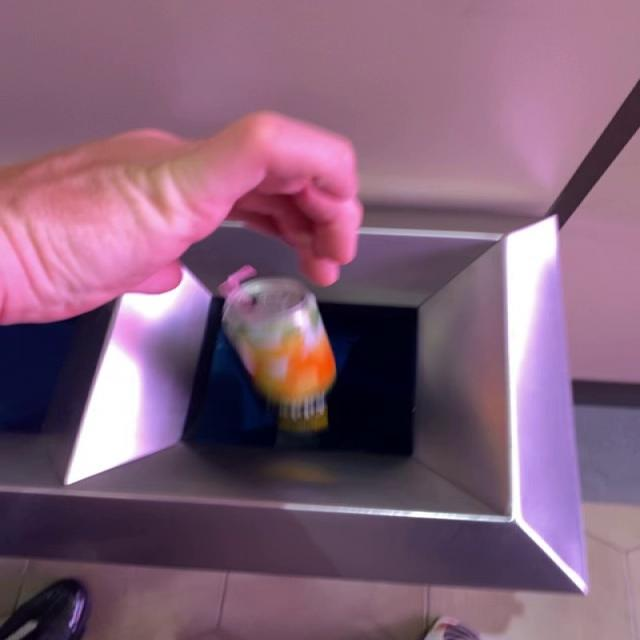bin: (1, 211, 588, 594)
metal: (223, 278, 335, 422)
